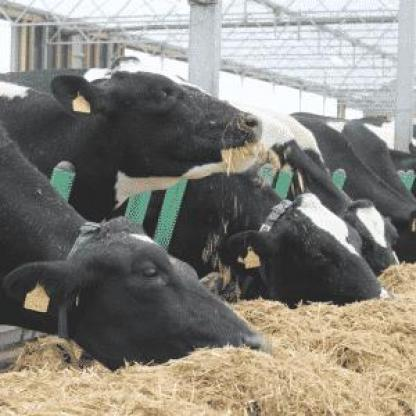cow: (0, 123, 263, 371), (0, 64, 265, 230), (220, 98, 401, 272), (171, 168, 390, 308), (291, 112, 416, 264)
